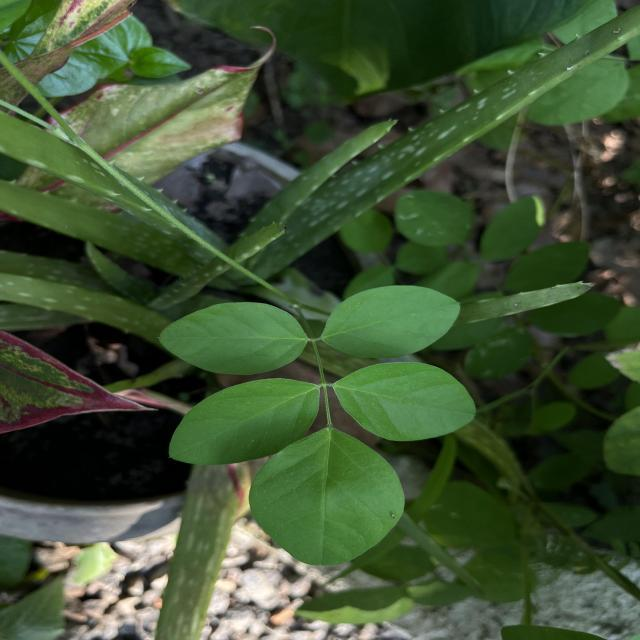Clitoria ternatea: (247, 426, 407, 566), (168, 376, 322, 466), (330, 360, 478, 443), (157, 300, 311, 376), (320, 284, 462, 359)
